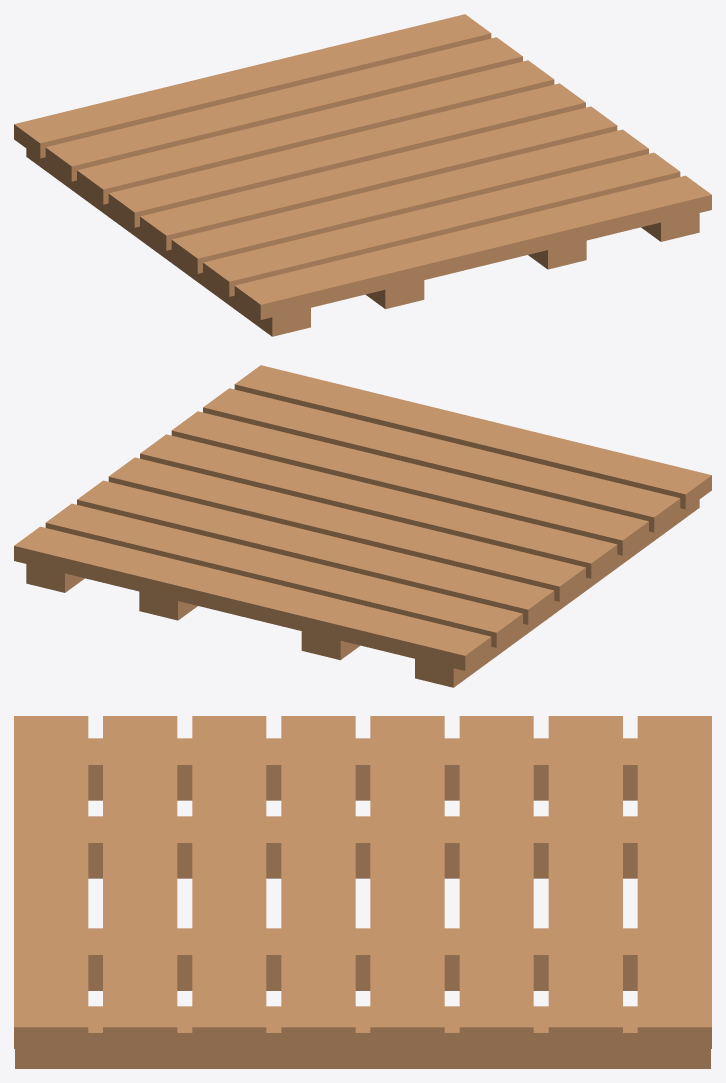
The model's file is wood_planks_small.fbx.
3 views of the same model, one above another, from view 1: azimuth 30°, elevation 25°; view 2: azimuth 150°, elevation 25°; view 3: azimuth 270°, elevation 25° (orthographic). The views are drawn at different scales.
Parts seen in each view (by area): view 1: Wood Planks.001; view 2: Wood Planks.001; view 3: Wood Planks.001.
Boxes of the visible parts, x1,y1,x2,y2 form: Wood Planks.001: (14,14,711,336); Wood Planks.001: (14,365,711,687); Wood Planks.001: (14,716,711,1068).
Bounding box in the file's own units: 178 × 13.21 × 168.
